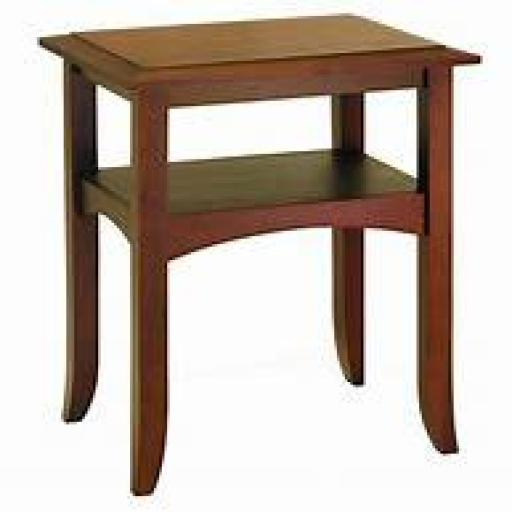table: (36, 8, 489, 504)
